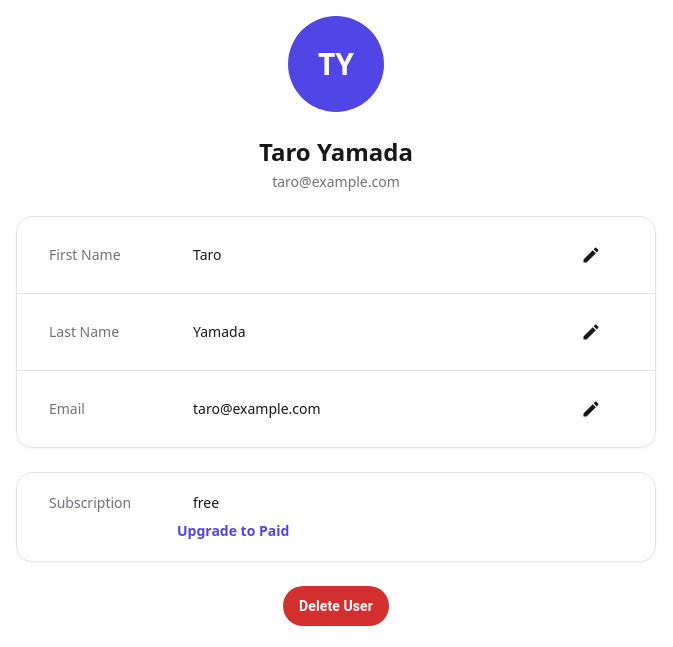
it: UserProfileView › switching to editing another field cancels the previous one
Click the button named "Edit First Name": (591, 255) [559,237,623,273]
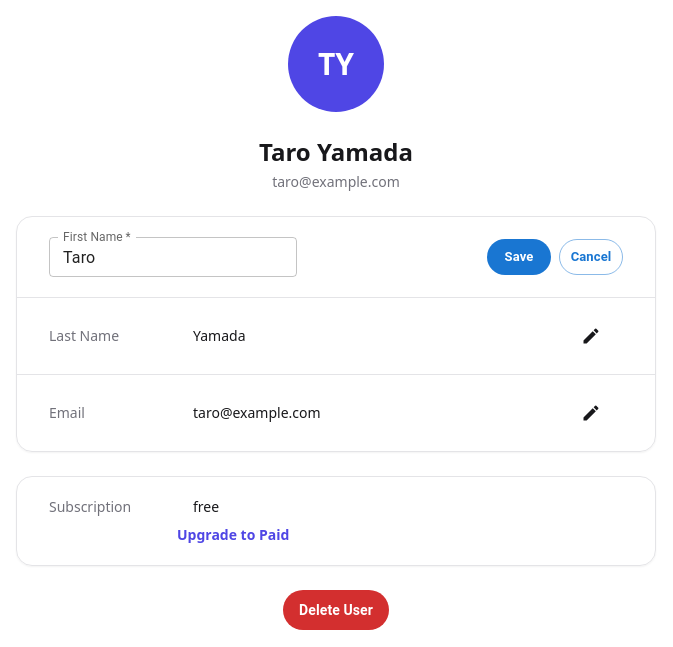
Click the button named "Edit Last Name": (591, 336) [559,318,623,354]
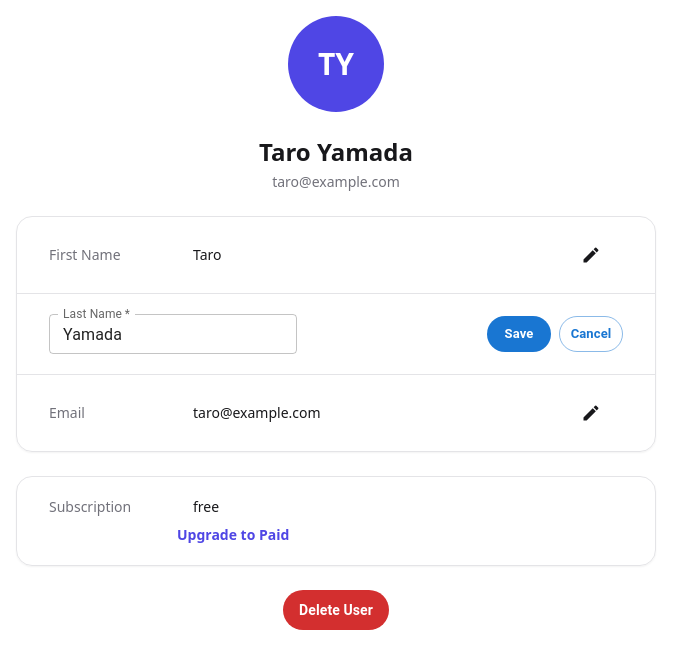
Expected: the field labelled "Last Name *" holds "Yamada", [49,314,297,354]
